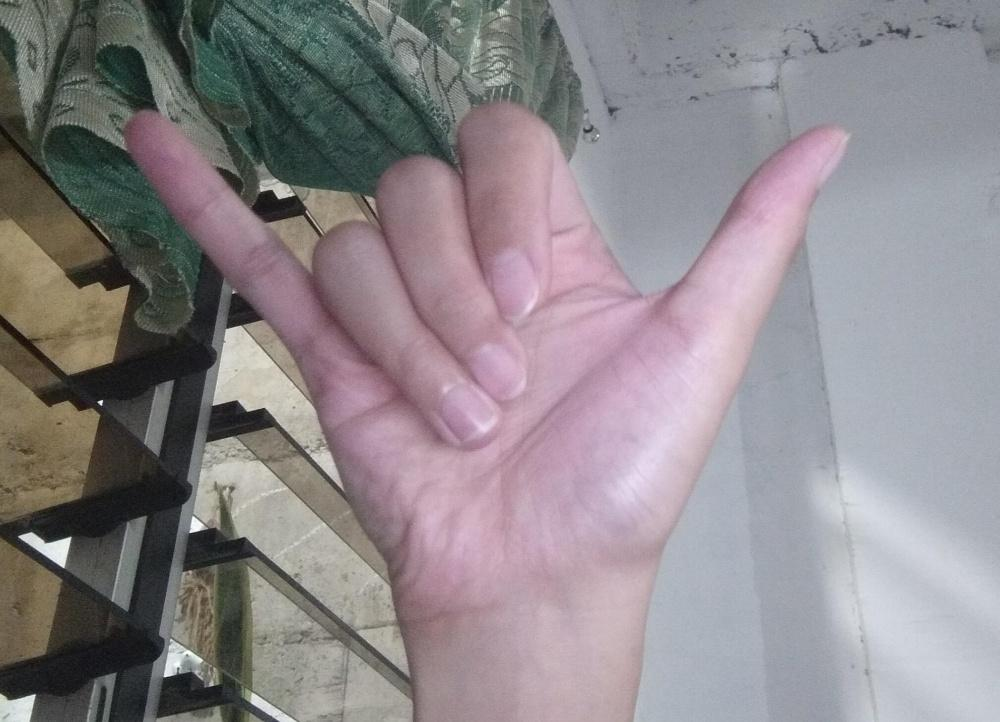y: (120, 94, 857, 631)
